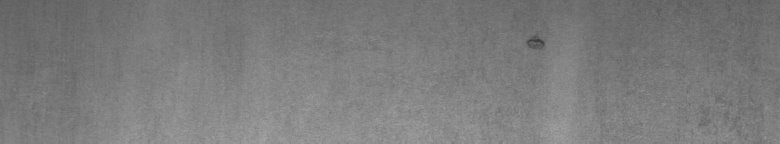fi: (525, 29, 548, 54)
